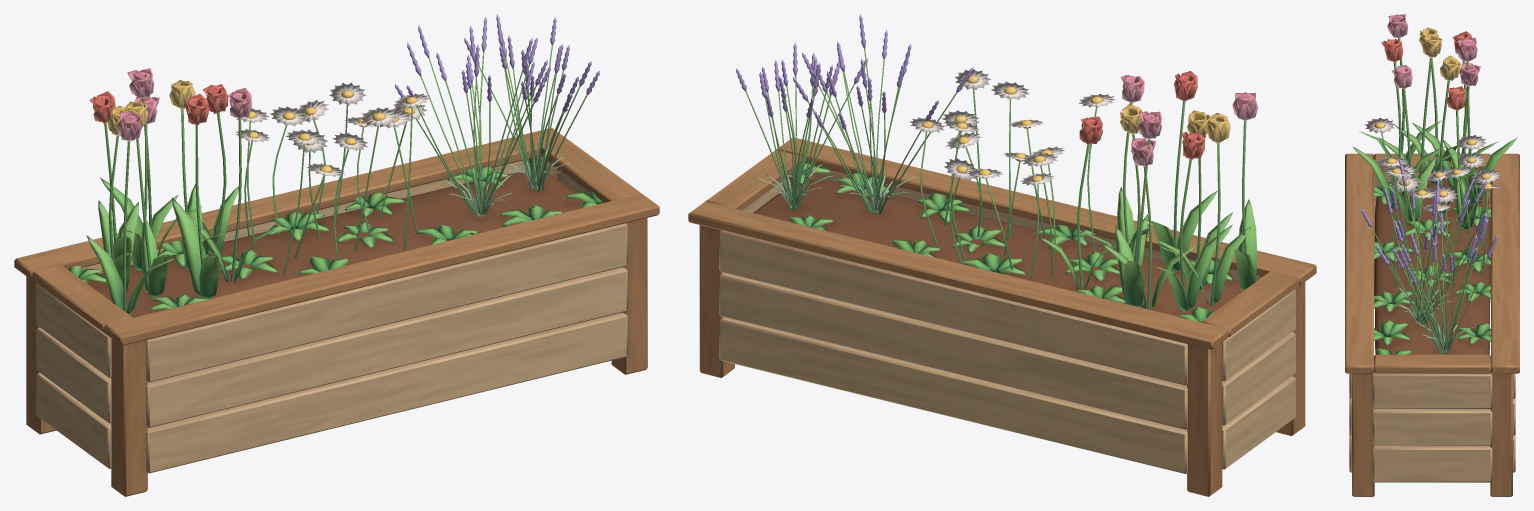
Rendered from flower-planter.glb.
3 renders of one model, left to right at view 1: azimuth 30°, elevation 25°; view 2: azimuth 150°, elevation 25°; view 3: azimuth 270°, elevation 25°, orthographic. The views are drawn at different scales.
Visible parts, largest first — view 1: flower-planter_body; view 2: flower-planter_body; view 3: flower-planter_body.
Part boxes in pixels (x1=…): flower-planter_body: x1=14, y1=14, x2=659, y2=496; flower-planter_body: x1=688, y1=14, x2=1316, y2=496; flower-planter_body: x1=1345, y1=14, x2=1519, y2=496.
Bounding box in the file's own units: 1.22 × 0.7745 × 0.424.
Materials: 1 (1 with a texture image).
